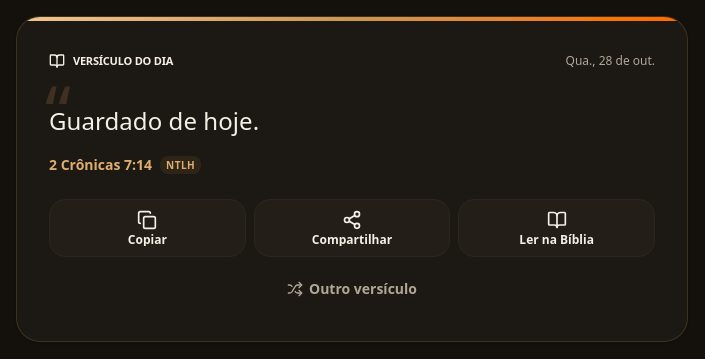
cartão do Versículo do Dia › Outro versículo troca o cartão e dá para voltar ao de hoje
The image size is (705, 359).
Click the button "Outro versículo": {"x": 352, "y": 289} [279,269,425,309]
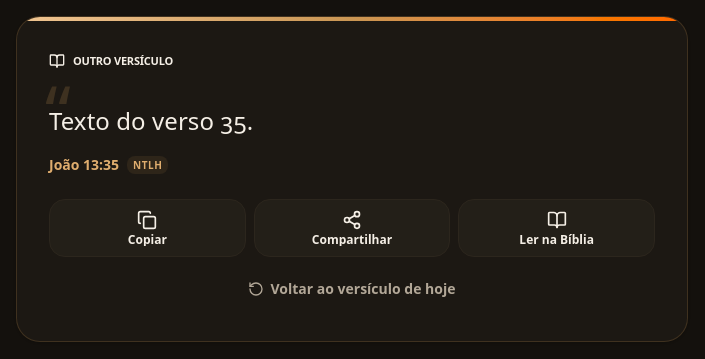
Check: the heading "Outro versículo" is shown, box [49,53,173,70]
Check: the text "Texto do verso 35." is shown, box [49,104,253,136]
Check: the text "2 Crônicas 7:14" is gone
Click the button "Voltar ao versículo de hoje": {"x": 352, "y": 289} [240,269,464,309]
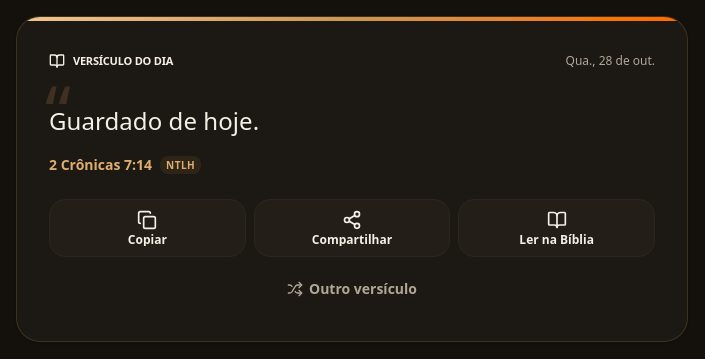
Check: the heading "Versículo do dia" is shown, box [49,53,173,70]
Check: the text "Guardado de hoje." is shown, box [49,104,259,136]
